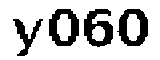0: (47, 7, 81, 48), (119, 6, 151, 47)
6: (84, 4, 114, 50)
y: (9, 13, 45, 60)
